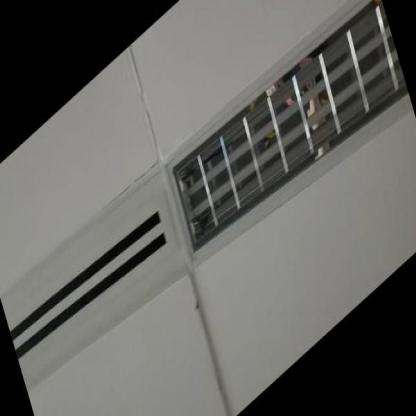light_off: (147, 0, 415, 330)
